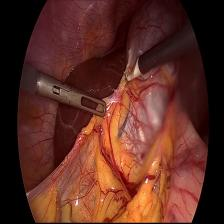Grasper: (52, 82, 108, 121)
Hook: (121, 56, 143, 86)
